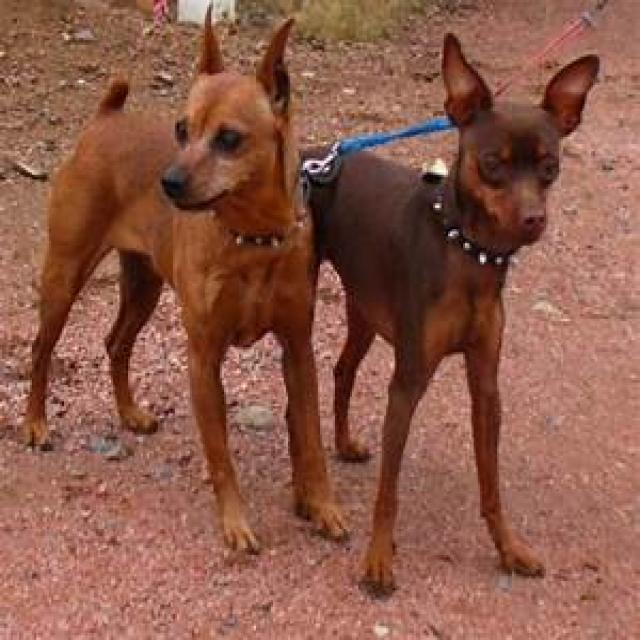KOPEK: (19, 0, 349, 541), (320, 23, 604, 586)
